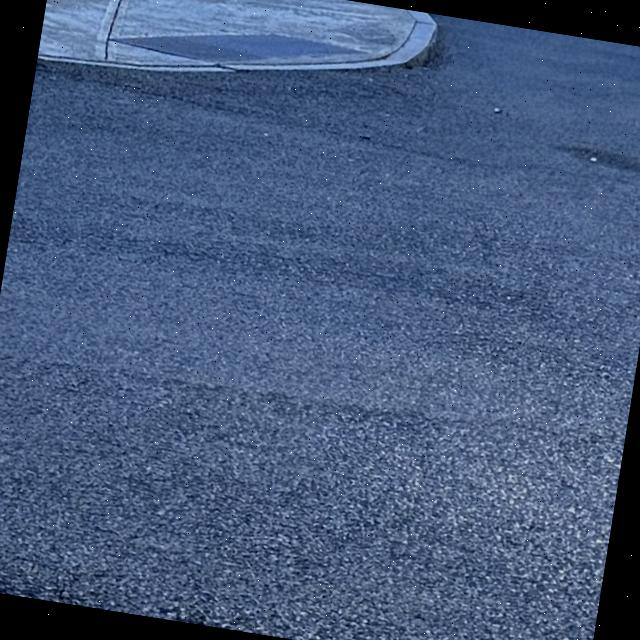curb: (221, 10, 440, 74), (38, 55, 235, 72)
